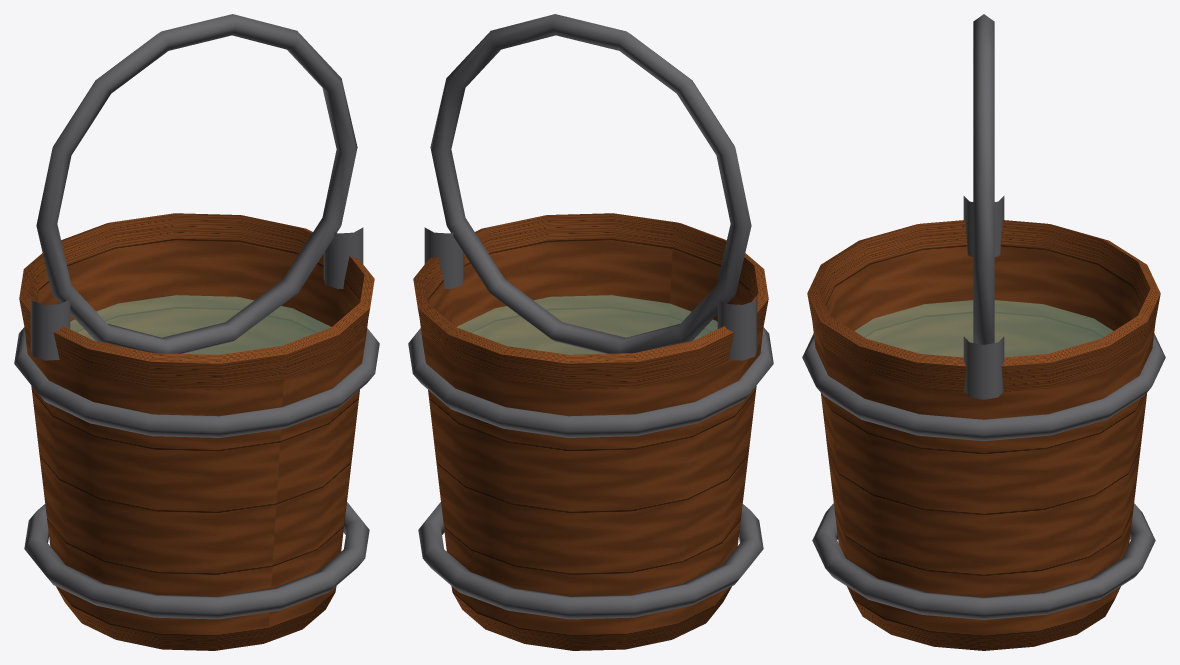
Rendered from witch-cottage-and-apothecary-water-pail-933faea7__32462.glb.
3 views of the same model, side by side, from view 1: azimuth 30°, elevation 25°; view 2: azimuth 150°, elevation 25°; view 3: azimuth 270°, elevation 25° (orthographic).
Visible parts, largest first — view 1: water-pail; view 2: water-pail; view 3: water-pail.
Boxes of the visible parts, <box> form: water-pail: <box>14,14,379,650</box>; water-pail: <box>408,14,773,650</box>; water-pail: <box>802,14,1165,650</box>.
Bounding box in the file's own units: 0.37 × 0.6165 × 0.36.
Materials: 3 (1 with a texture image).
